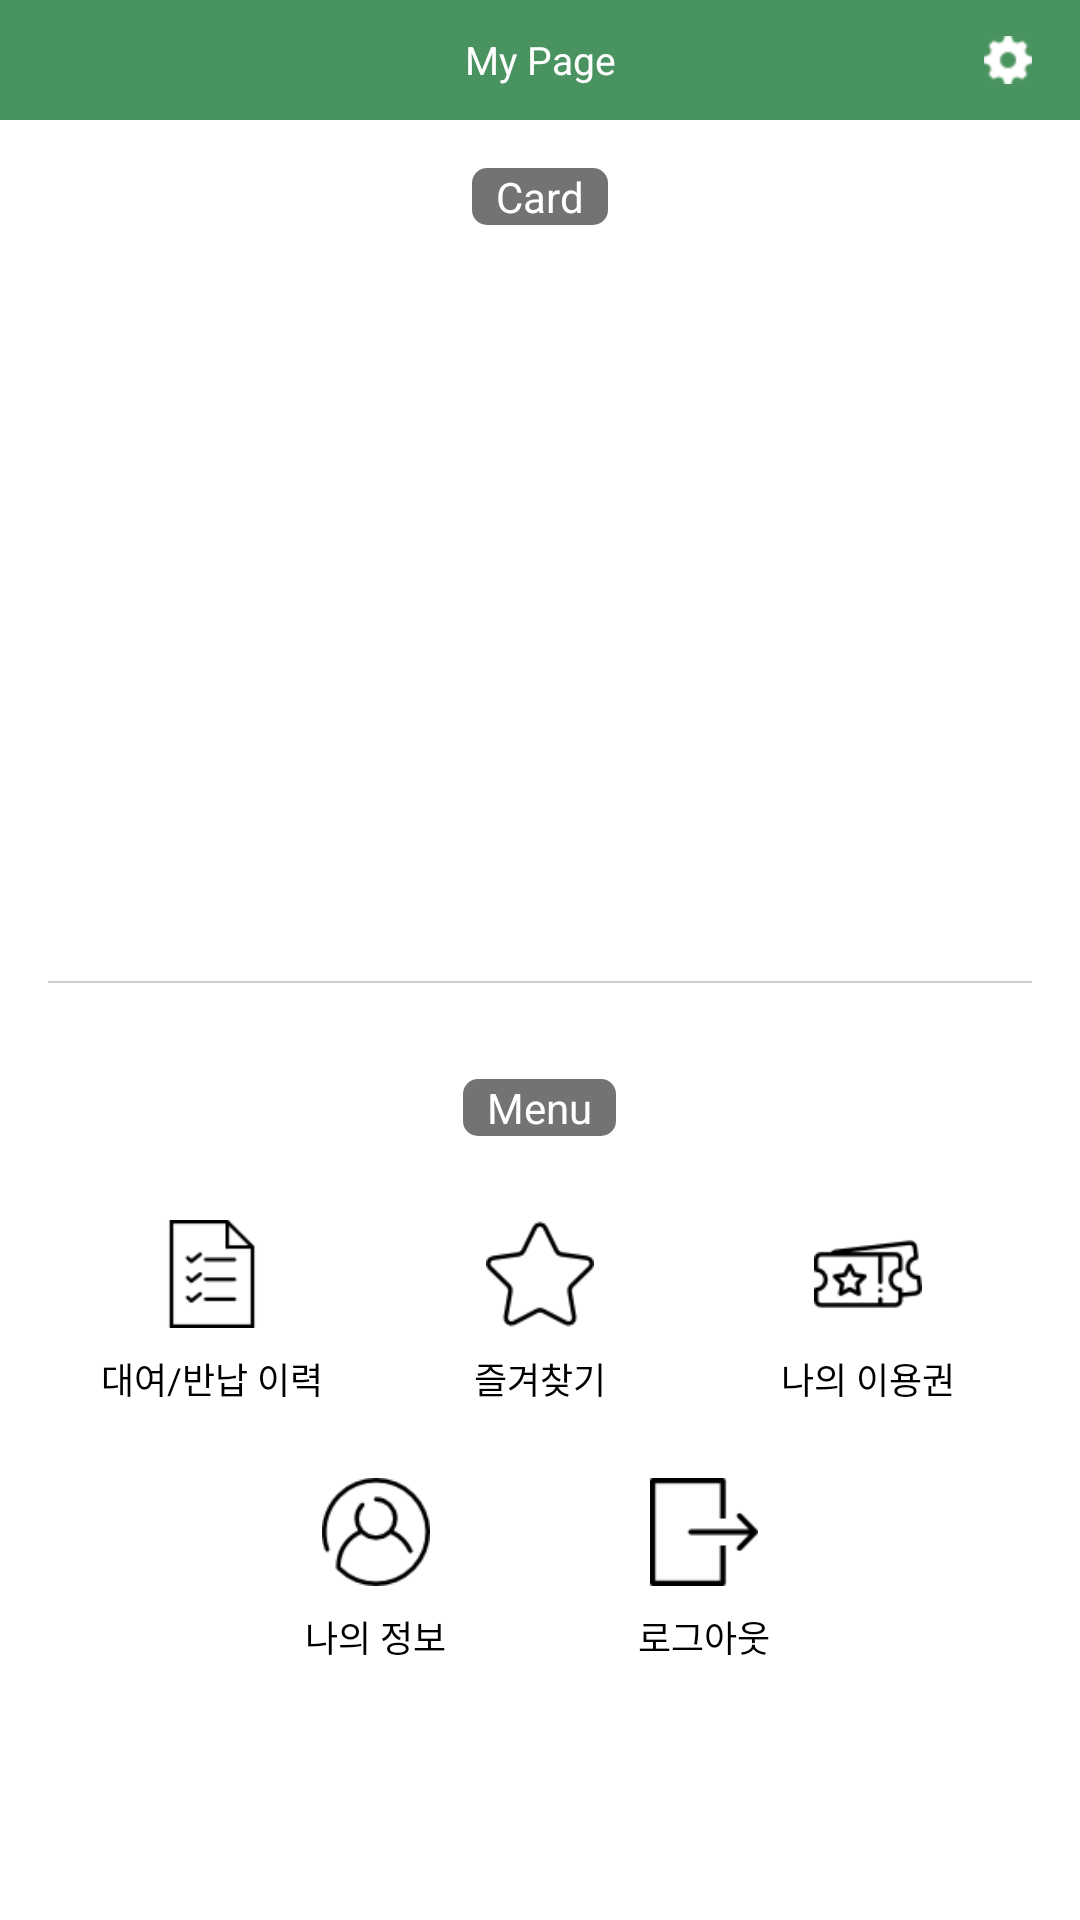

Icons on this 1080*1920 Android screen, each with its box as [x1, y1, x2, y2]:
setting: [984, 36, 1032, 84]
